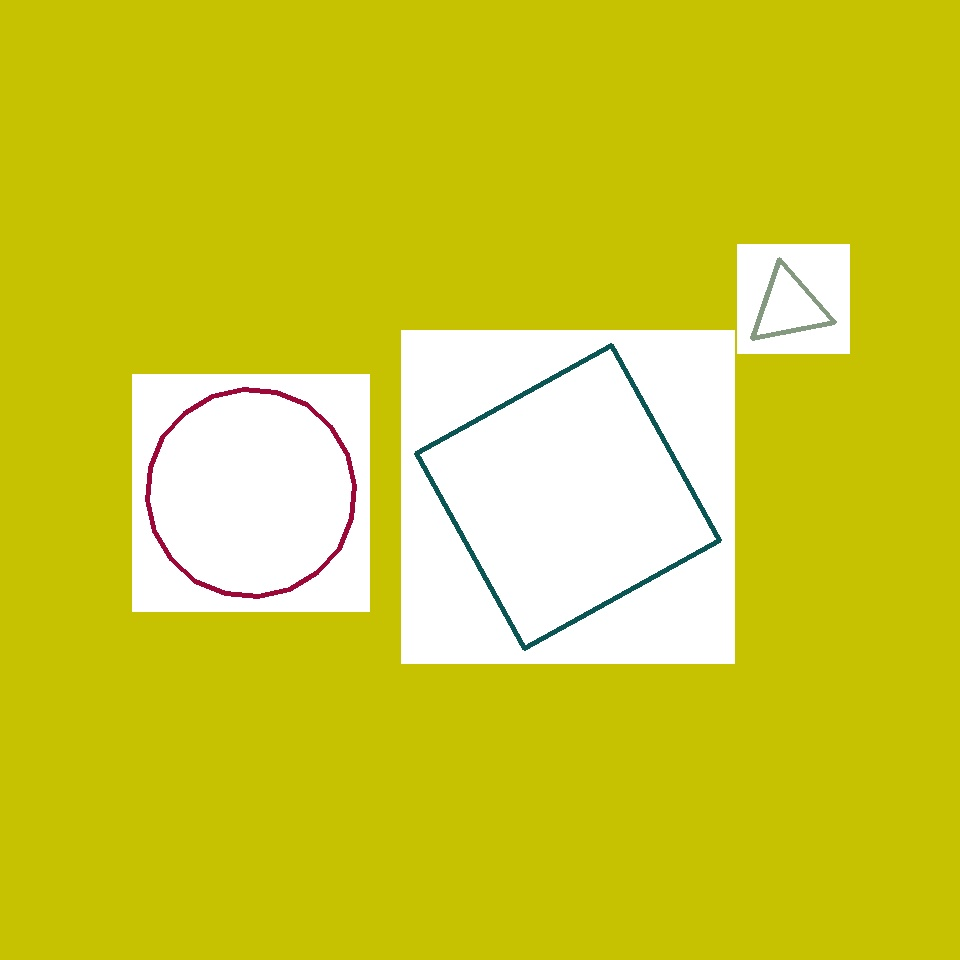circle: (205, 22, 443, 276), (748, 268, 830, 346)
square: (416, 346, 720, 648), (360, 554, 458, 650)
triangle: (206, 528, 544, 867), (148, 390, 354, 596), (292, 446, 398, 550)
